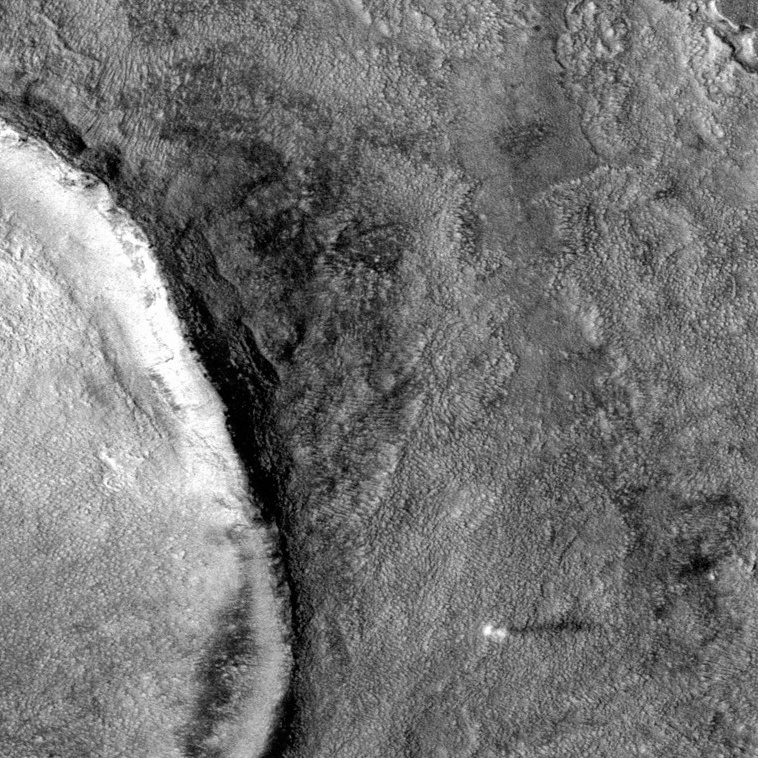dust_devil: (480, 617, 607, 642)
